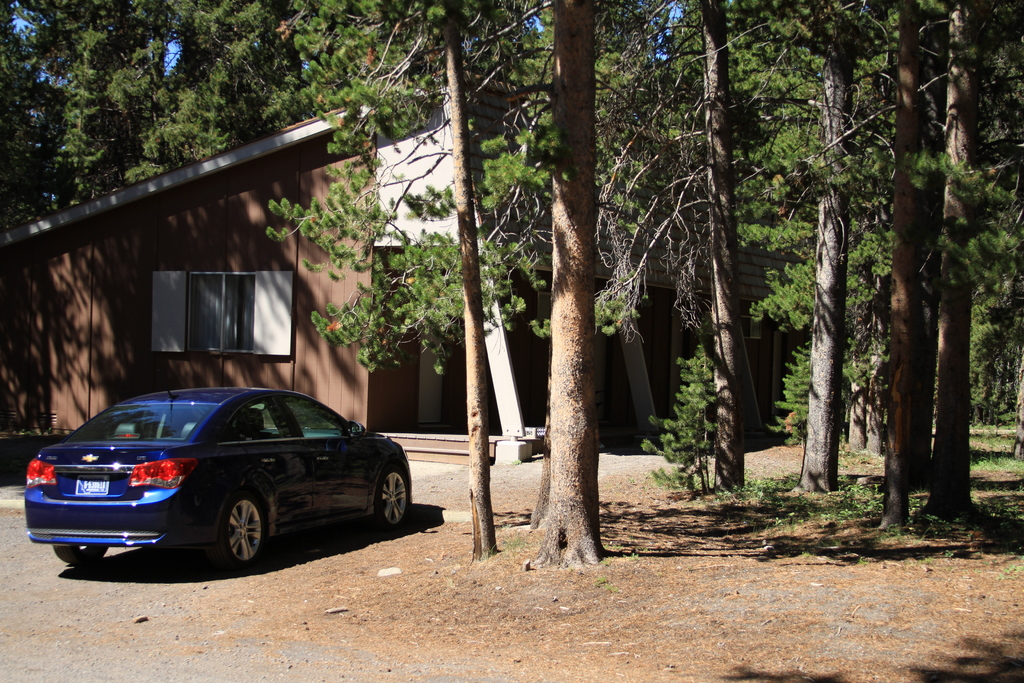cars: (14, 382, 425, 581)
